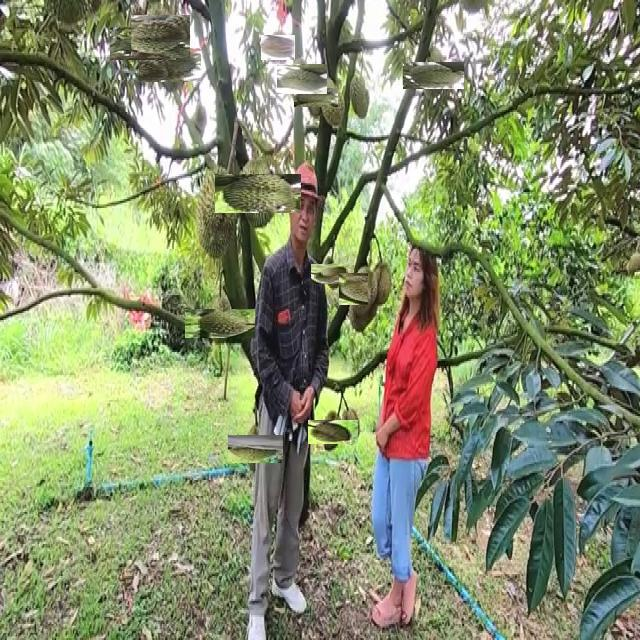durian: (193, 155, 243, 267), (226, 162, 290, 224), (135, 11, 186, 63), (195, 298, 245, 348), (118, 18, 168, 68), (146, 41, 194, 90), (411, 53, 456, 98), (235, 428, 277, 471), (343, 269, 385, 310), (319, 74, 348, 132), (282, 59, 322, 100), (314, 414, 352, 451), (368, 259, 393, 312), (347, 74, 372, 123), (339, 400, 363, 450), (316, 258, 348, 290), (300, 81, 332, 113), (263, 32, 294, 63)
